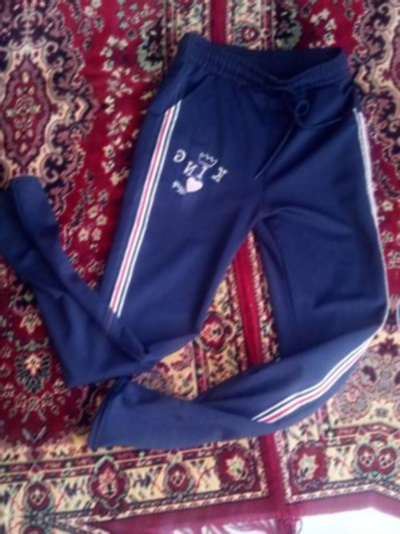Pants: (0, 0, 400, 492), (388, 32, 400, 534)
